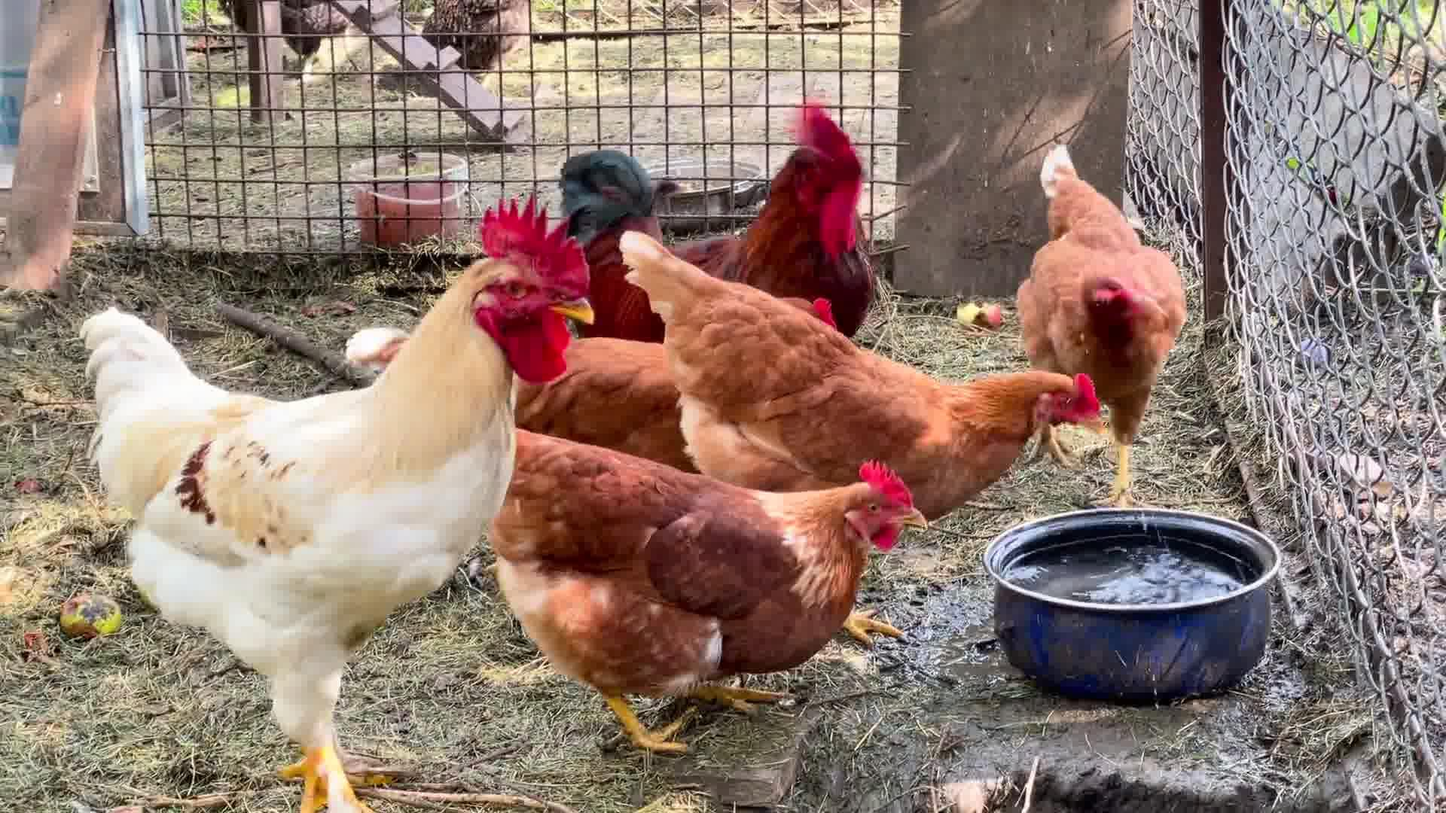Normal: (53, 200, 579, 809), (620, 239, 1102, 526), (531, 420, 894, 768), (543, 104, 882, 337), (1034, 128, 1191, 509)
